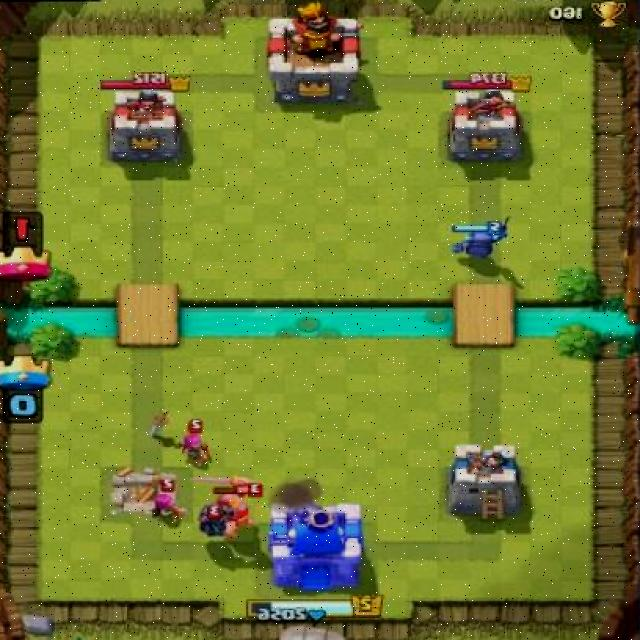Enemy-Archer: (147, 476, 189, 528), (175, 418, 216, 471)
Enemy-Knight: (192, 474, 268, 538)
Enemy-MiniPEKKA: (197, 498, 238, 540)
Player-MiniPEKKA: (444, 212, 514, 262)
